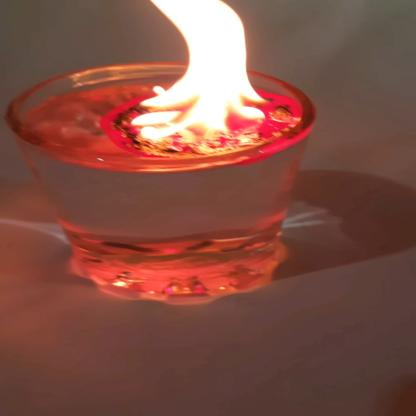Fire: (107, 0, 273, 137)
